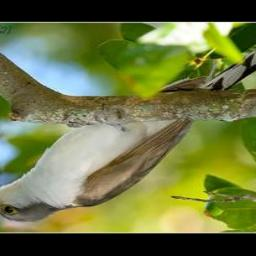Cuckoo: (0, 24, 256, 226)
